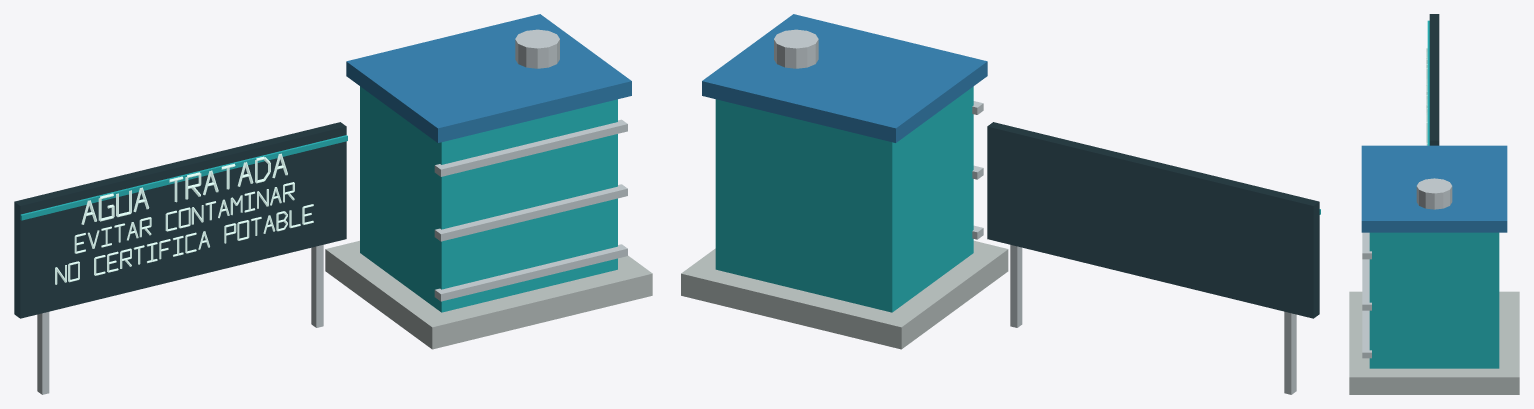
The model's file is AQUA-016.glb.
3 views of the same model, side by side, from view 1: azimuth 30°, elevation 25°; view 2: azimuth 150°, elevation 25°; view 3: azimuth 270°, elevation 25° (orthographic). The views are drawn at different scales.
Visible parts, largest first — view 1: AQUA-016; view 2: AQUA-016; view 3: AQUA-016.
Part boxes in pixels (bbox=[...]): AQUA-016: bbox=[14, 14, 652, 394]; AQUA-016: bbox=[681, 14, 1320, 394]; AQUA-016: bbox=[1349, 14, 1519, 394].
Bounding box in the file's own units: 6.6 × 2.52 × 2.1.
